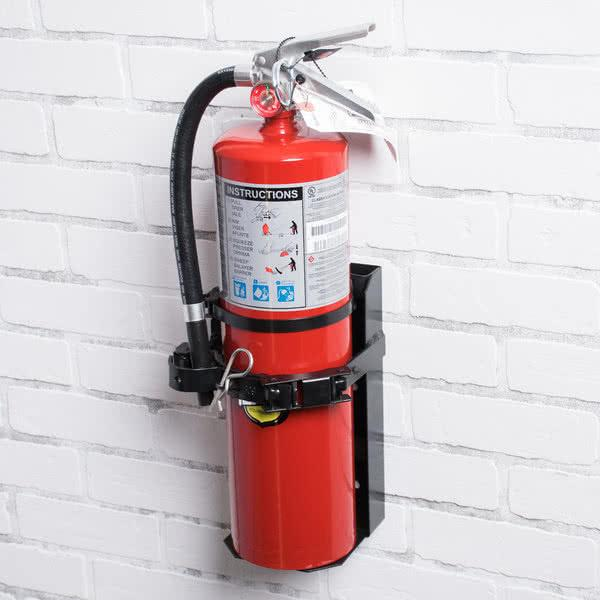wall-mounted: (119, 22, 477, 584)
